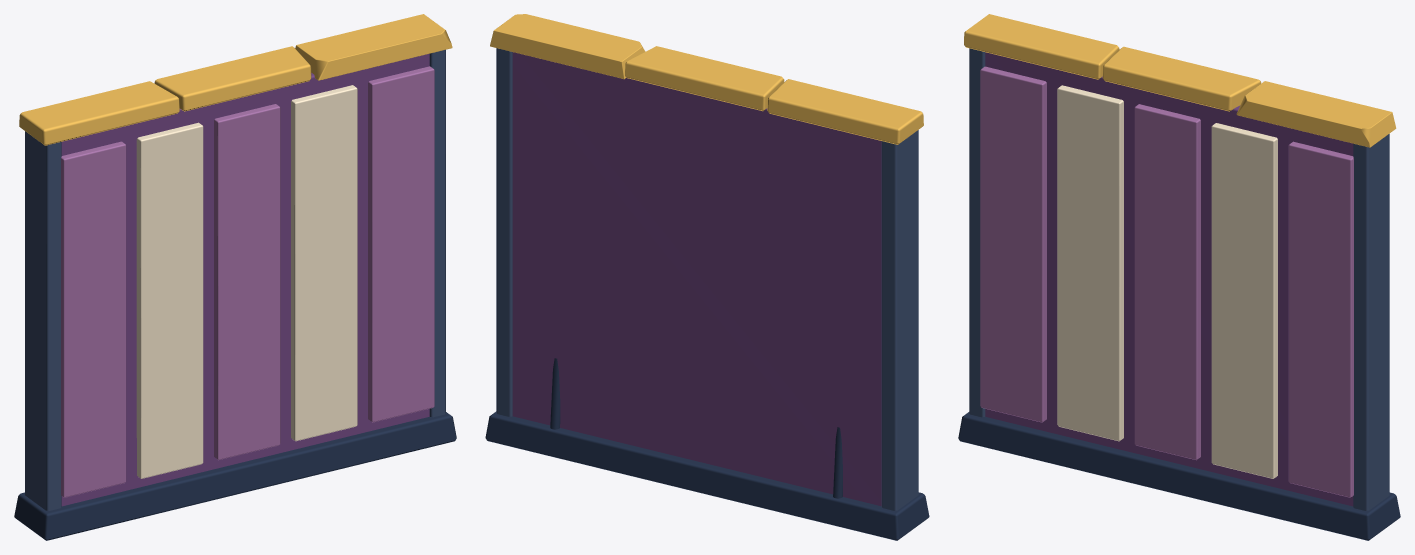
The model's file is stage_flat.glb.
The picture shows the model from 3 angles, left to right: view 1: azimuth 30°, elevation 25°; view 2: azimuth 150°, elevation 25°; view 3: azimuth 330°, elevation 25°; orthographic projection.
Visible parts, largest first — view 1: stage_flat; view 2: stage_flat; view 3: stage_flat.
Boxes of the visible parts, left/top/right/bottom form: stage_flat: left=14, top=14, right=456, bottom=540; stage_flat: left=485, top=14, right=929, bottom=540; stage_flat: left=958, top=14, right=1400, bottom=540.
Size of the model in its own units: 4.68 by 4.44 by 0.6436.
